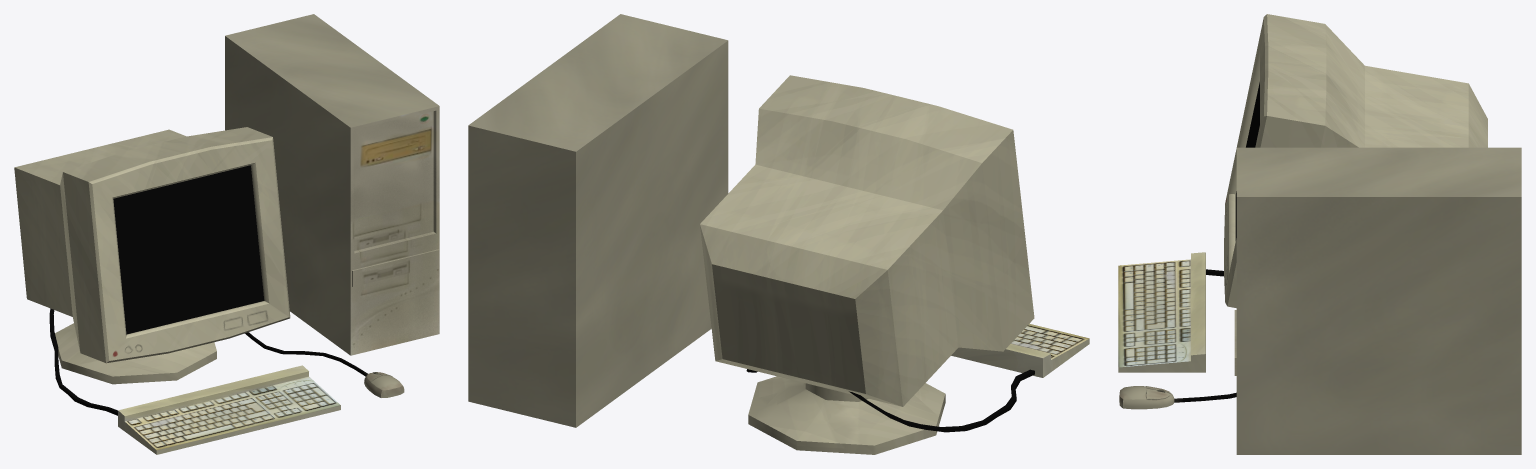
The model's file is Computer.fbx.
3 views of the same model, side by side, from view 1: azimuth 30°, elevation 25°; view 2: azimuth 150°, elevation 25°; view 3: azimuth 270°, elevation 25° (orthographic). The views are drawn at different scales.
Parts seen in each view (by area): view 1: Cube; view 2: Cube; view 3: Cube.
Boxes of the visible parts, x1=… form: Cube: x1=14, y1=14, x2=439, y2=454; Cube: x1=468, y1=14, x2=1089, y2=454; Cube: x1=1118, y1=14, x2=1521, y2=454.
Size of the model in its own units: 373 by 239 by 334.
